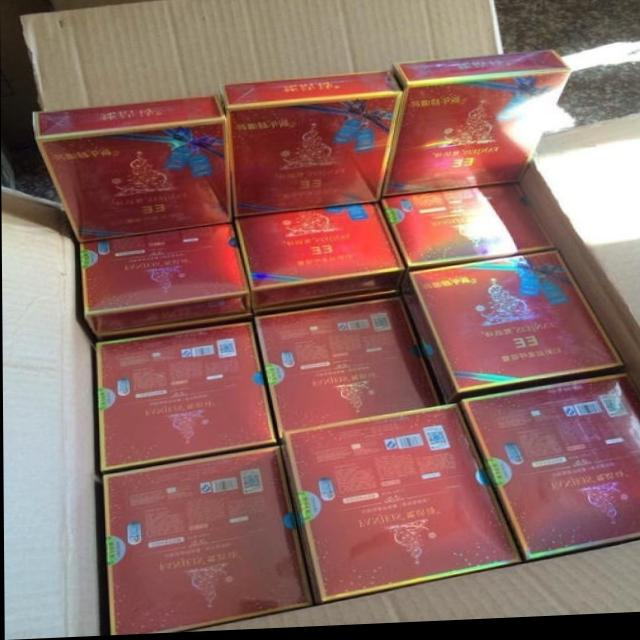box: (280, 407, 521, 608), (102, 449, 311, 635), (400, 254, 625, 409), (457, 378, 640, 567), (33, 97, 232, 243), (381, 54, 573, 201), (95, 324, 275, 472), (220, 74, 403, 219), (254, 300, 439, 442), (79, 224, 250, 335), (234, 205, 405, 312), (379, 188, 556, 277)
